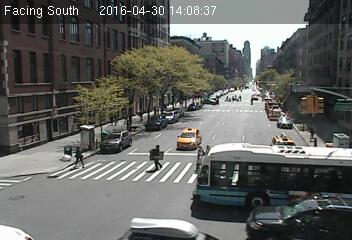neg: (302, 194, 323, 222), (183, 173, 202, 199), (267, 129, 285, 153), (257, 100, 275, 124), (38, 120, 56, 143), (8, 127, 25, 150), (82, 130, 98, 151), (172, 210, 188, 231), (33, 166, 48, 186), (195, 88, 209, 107), (115, 63, 129, 81), (152, 112, 164, 129), (118, 32, 130, 48), (325, 128, 337, 143), (186, 98, 196, 112), (250, 76, 260, 90), (76, 80, 85, 92), (194, 29, 201, 39), (243, 82, 250, 91), (65, 49, 72, 58)
pos: (146, 144, 167, 173), (188, 144, 207, 171), (69, 146, 87, 169), (307, 124, 320, 142), (137, 110, 146, 122), (122, 113, 131, 124), (249, 94, 257, 105), (230, 92, 237, 102), (237, 93, 244, 102), (225, 95, 231, 102)
